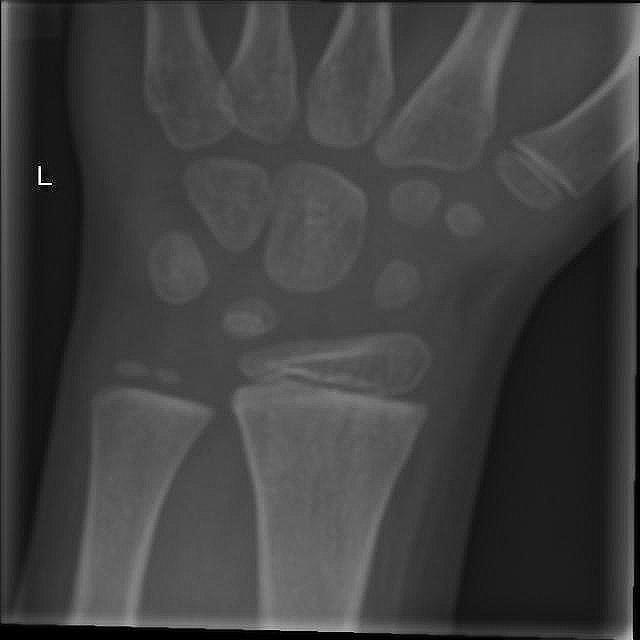bone: (240, 432, 418, 494)
